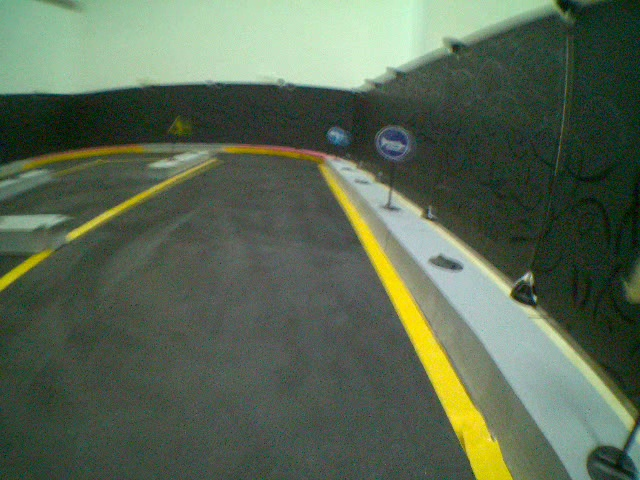horn: (375, 123, 414, 161)
